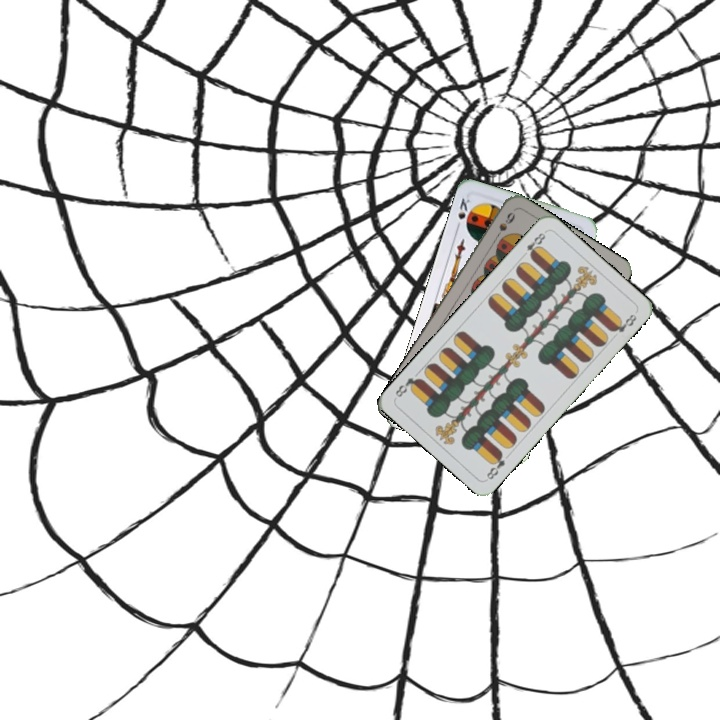E8: (517, 227, 549, 260), (482, 448, 508, 482)
S9: (490, 208, 518, 244)
SK: (452, 194, 474, 233)
